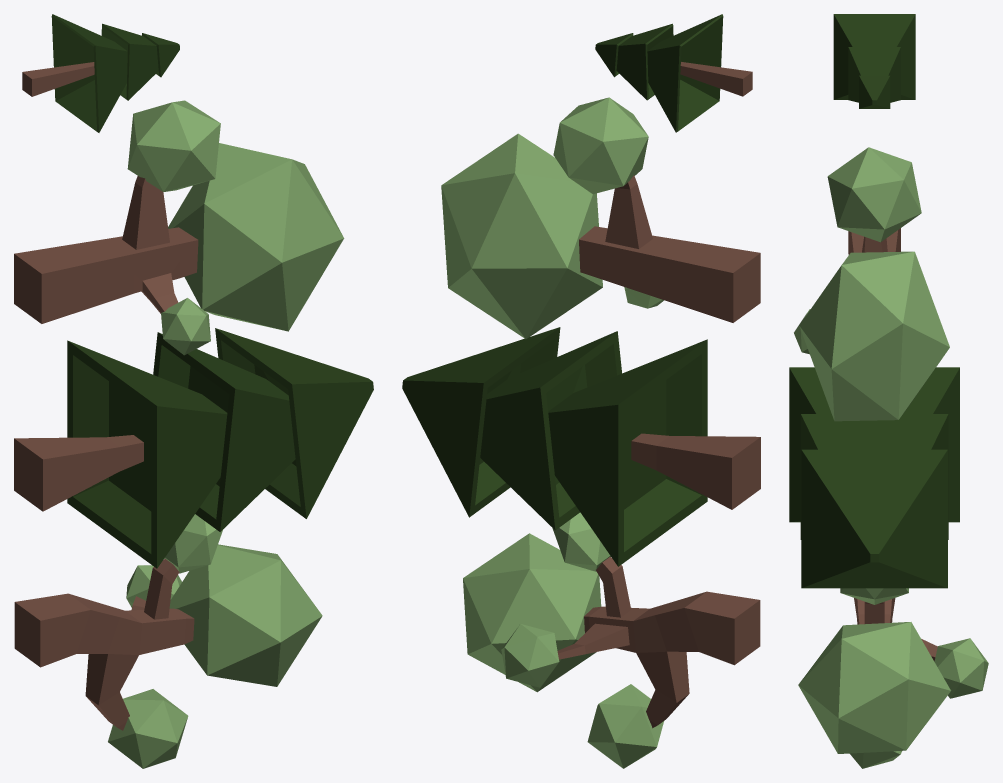
File: Trees.fbx
The picture shows the model from 3 angles, left to right: view 1: azimuth 30°, elevation 25°; view 2: azimuth 150°, elevation 25°; view 3: azimuth 270°, elevation 25°; orthographic projection. The views are drawn at different scales.
Visible parts, largest first — view 1: Cube.003, Cube.002, Cube.005, Cube.004; view 2: Cube.003, Cube.002, Cube.005, Cube.004; view 3: Cube.003, Cube.002, Cube.005, Cube.004.
Part boxes in pixels (bbox=[...]): Cube.003: bbox=[14, 328, 373, 568]; Cube.002: bbox=[14, 100, 344, 355]; Cube.005: bbox=[14, 514, 322, 768]; Cube.004: bbox=[22, 14, 179, 132]; Cube.003: bbox=[402, 327, 760, 566]; Cube.002: bbox=[441, 97, 760, 338]; Cube.005: bbox=[463, 512, 760, 768]; Cube.004: bbox=[595, 14, 752, 132]; Cube.003: bbox=[789, 367, 959, 588]; Cube.002: bbox=[794, 147, 949, 421]; Cube.005: bbox=[798, 588, 988, 768]; Cube.004: bbox=[833, 14, 915, 108].
Bounding box in the file's own units: 163 × 340 × 86.12.
